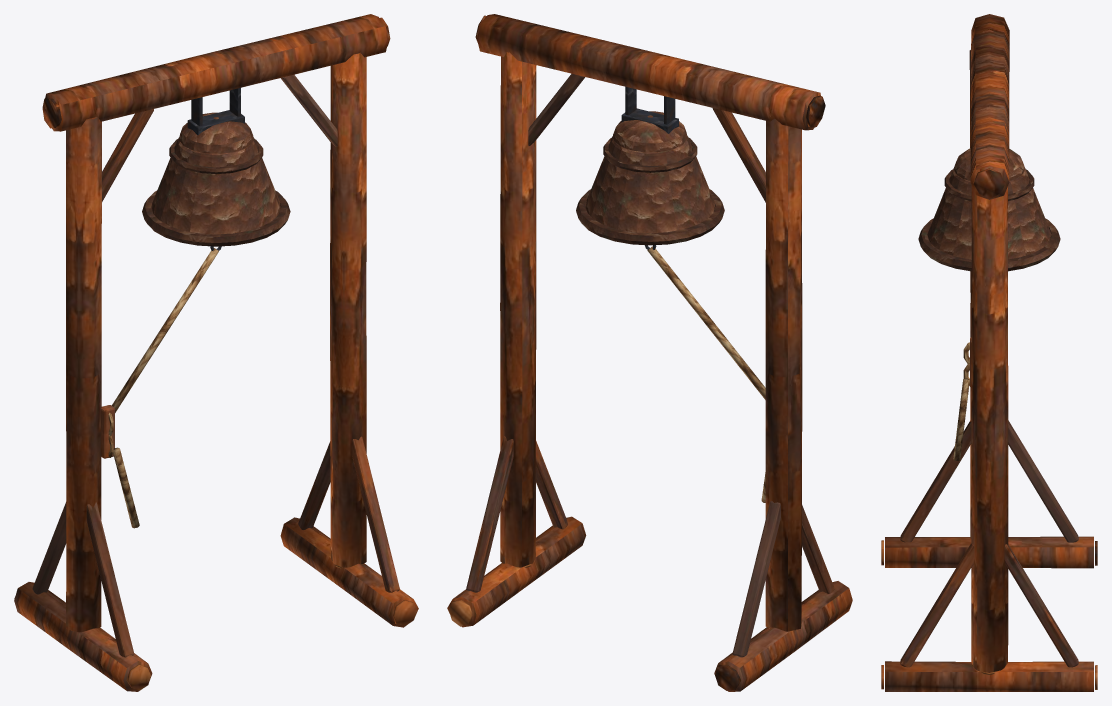
The model's file is mg_alarm_bell.glb.
3 renders of one model, left to right at view 1: azimuth 30°, elevation 25°; view 2: azimuth 150°, elevation 25°; view 3: azimuth 270°, elevation 25°, orthographic. The views are drawn at different scales.
Parts seen in each view (by area): view 1: model; view 2: model; view 3: model.
Part boxes in pixels (x1,y1,x2,y2): model: [14, 14, 418, 691]; model: [447, 14, 852, 691]; model: [881, 14, 1097, 691].
Size of the model in its own units: 1.12 by 1.83 by 0.664.
Materials: 16 (15 with a texture image).
